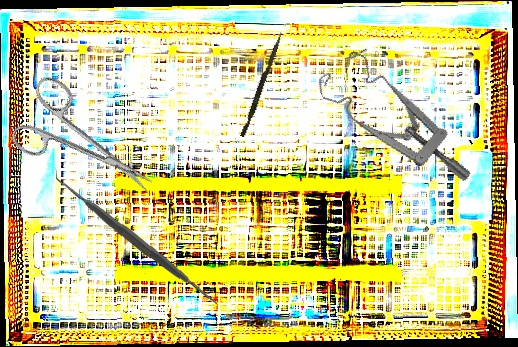Iris Scissors: (1, 71, 171, 222)
Pusher: (240, 30, 283, 139)
Spatula Surgical: (55, 161, 218, 320)
Speculum: (310, 29, 473, 222)
